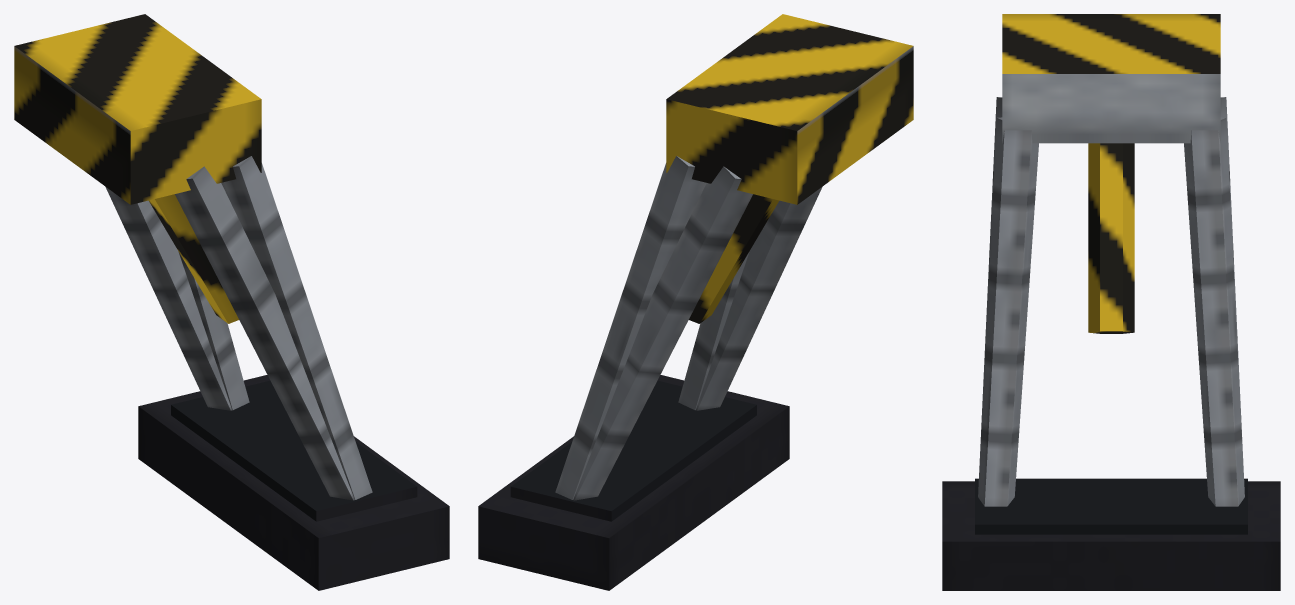
File: ship_heavy_cradle.obj
3 renders of one model, left to right at view 1: azimuth 30°, elevation 25°; view 2: azimuth 150°, elevation 25°; view 3: azimuth 270°, elevation 25°, orthographic. The views are drawn at different scales.
Visible parts, largest first — view 1: legs, boss, pad, tread, damper; view 2: legs, boss, pad, tread, damper; view 3: legs, boss, pad, tread, damper.
Boxes of the visible parts, x1,y1,x2,y2 form: legs: (105,156,372,500); boss: (14,14,261,204); pad: (138,375,449,590); tread: (171,380,417,521); damper: (149,194,238,323); legs: (555,156,822,500); boss: (666,14,913,204); pad: (478,375,789,590); tread: (510,380,756,521); damper: (689,194,778,323); legs: (978,97,1244,506); boss: (1002,14,1220,143); pad: (942,481,1280,590); tread: (975,478,1247,534); damper: (1088,143,1134,333).
Size of the model in its own units: 1.14 by 1.8 by 1.24.
5 materials, 5 textured.
